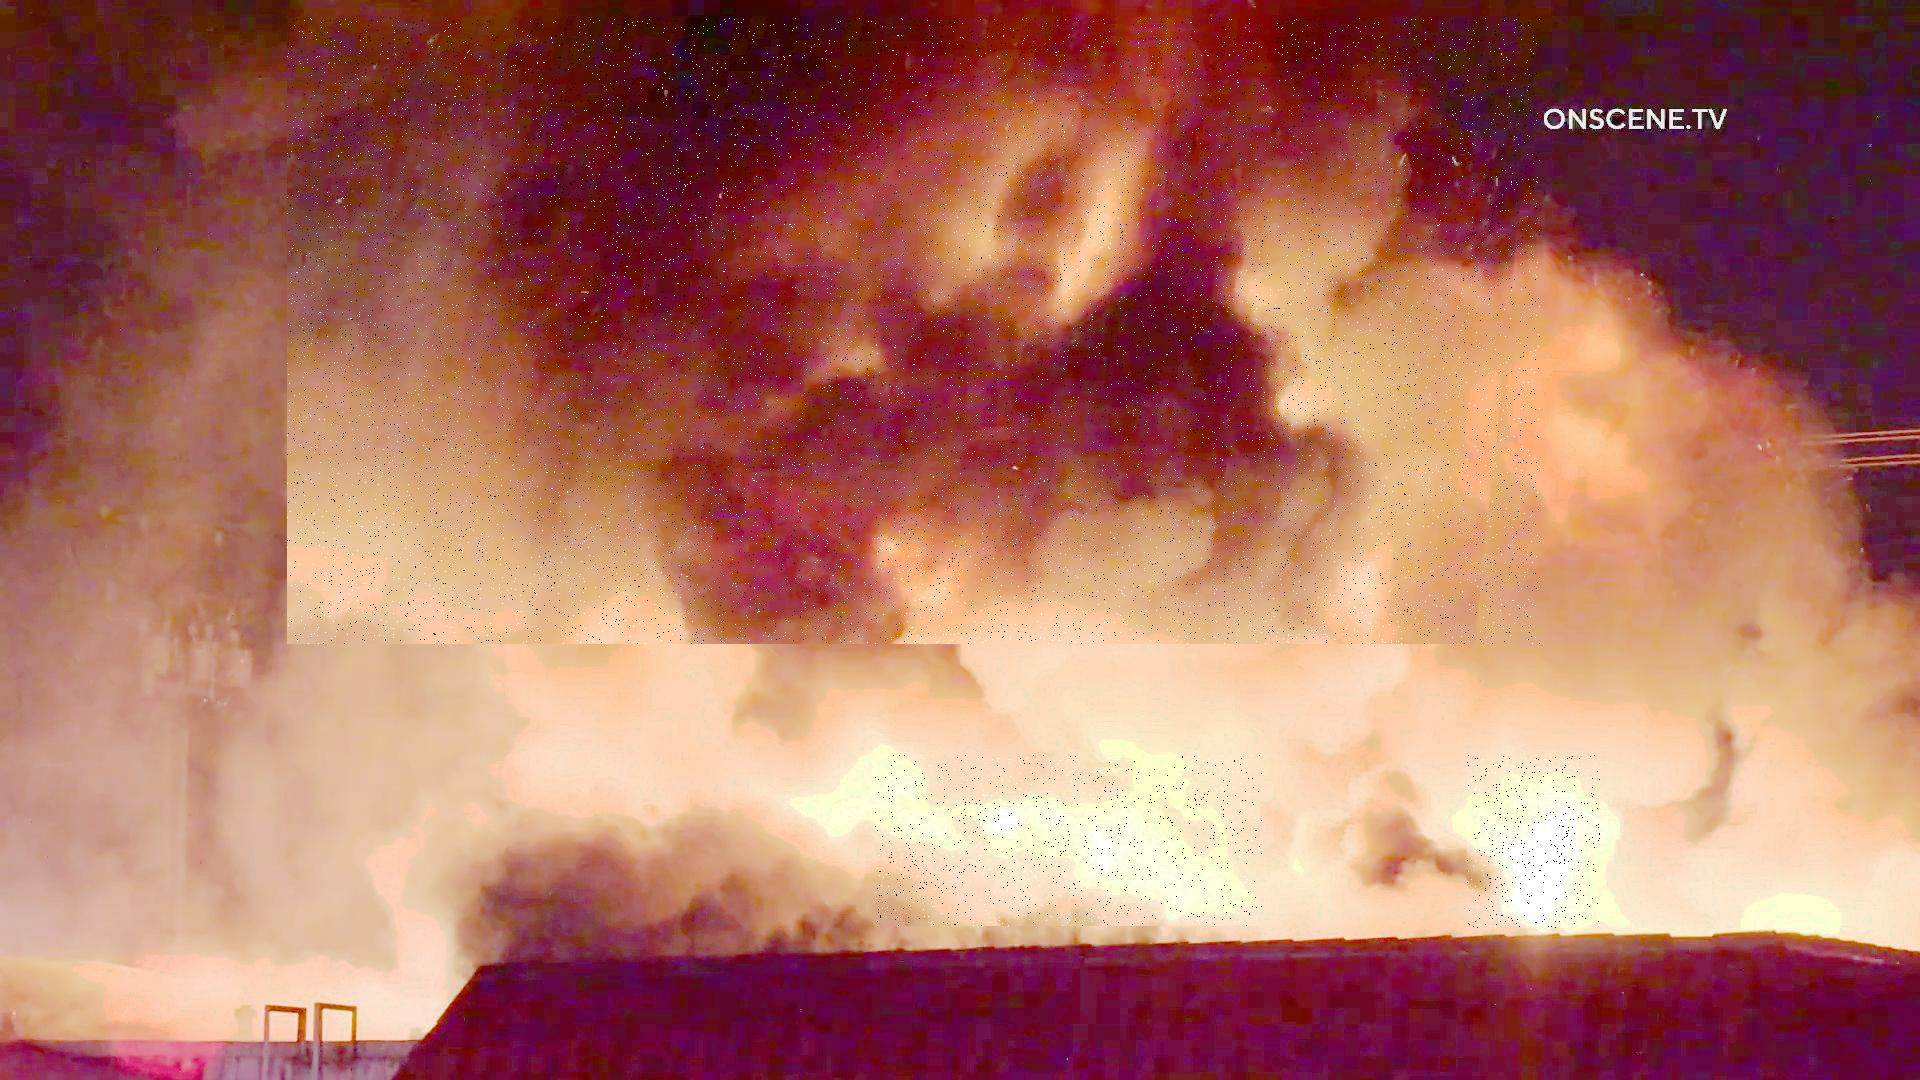fire: (876, 756, 1263, 926), (1468, 756, 1601, 928)
smoke: (287, 18, 1542, 645)
